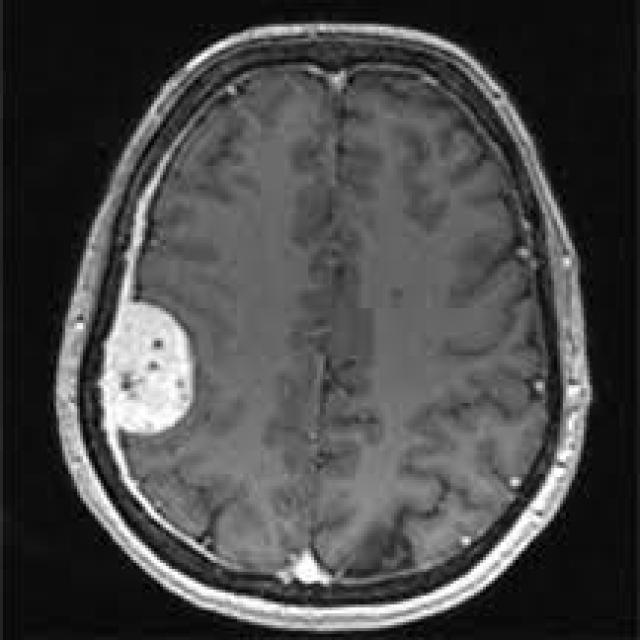Tumor: (101, 302, 196, 437)
